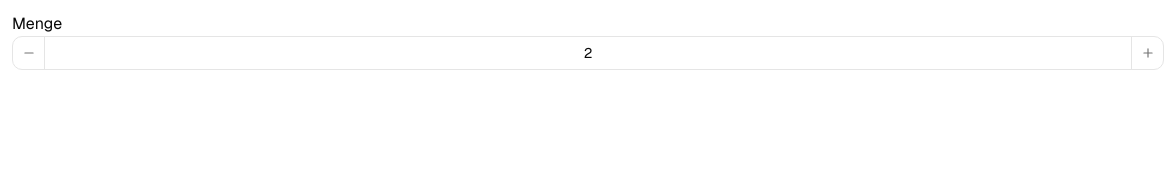
Scenario: NumberField › Stepper erhöht den Wert und das Formular folgt
The width and height of the screenshot is (1176, 172).
Click the button named "Erhöhen": (1147,53) [1131, 37, 1163, 69]
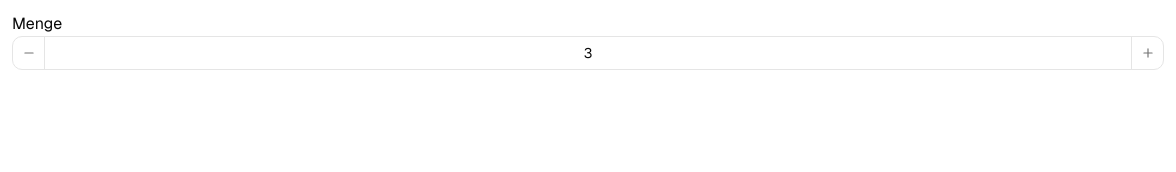
Check: the field labelled "Menge" holds "3", box [45, 37, 1131, 69]
